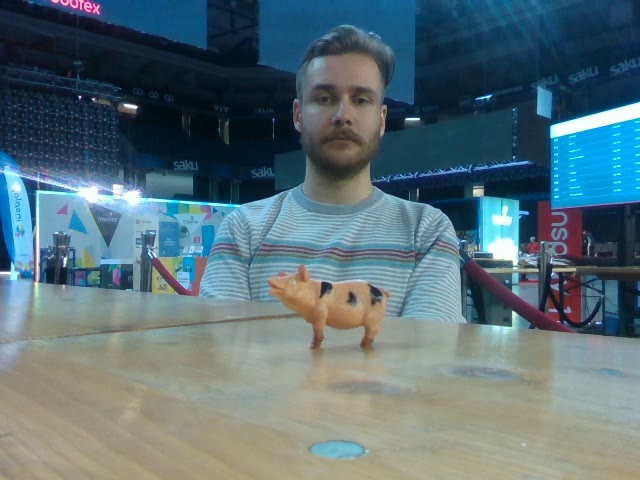toy: (264, 262, 391, 346)
